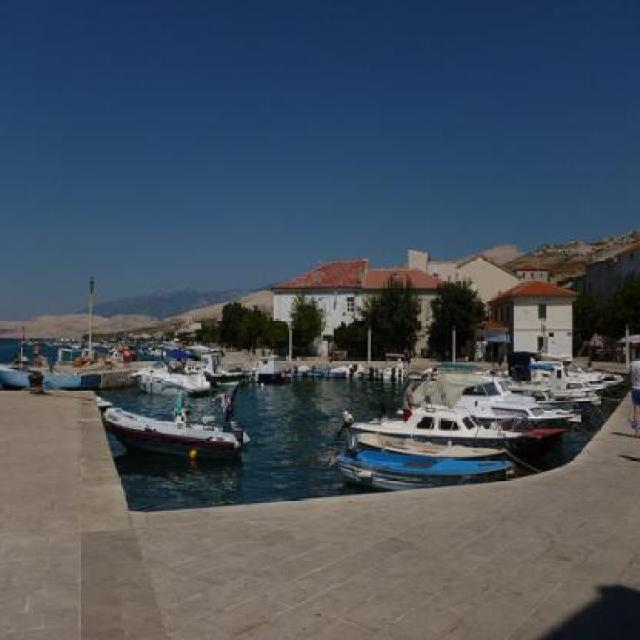ship: (395, 363, 579, 431), (342, 389, 513, 456), (98, 388, 250, 462), (494, 340, 626, 405), (132, 338, 250, 396)
